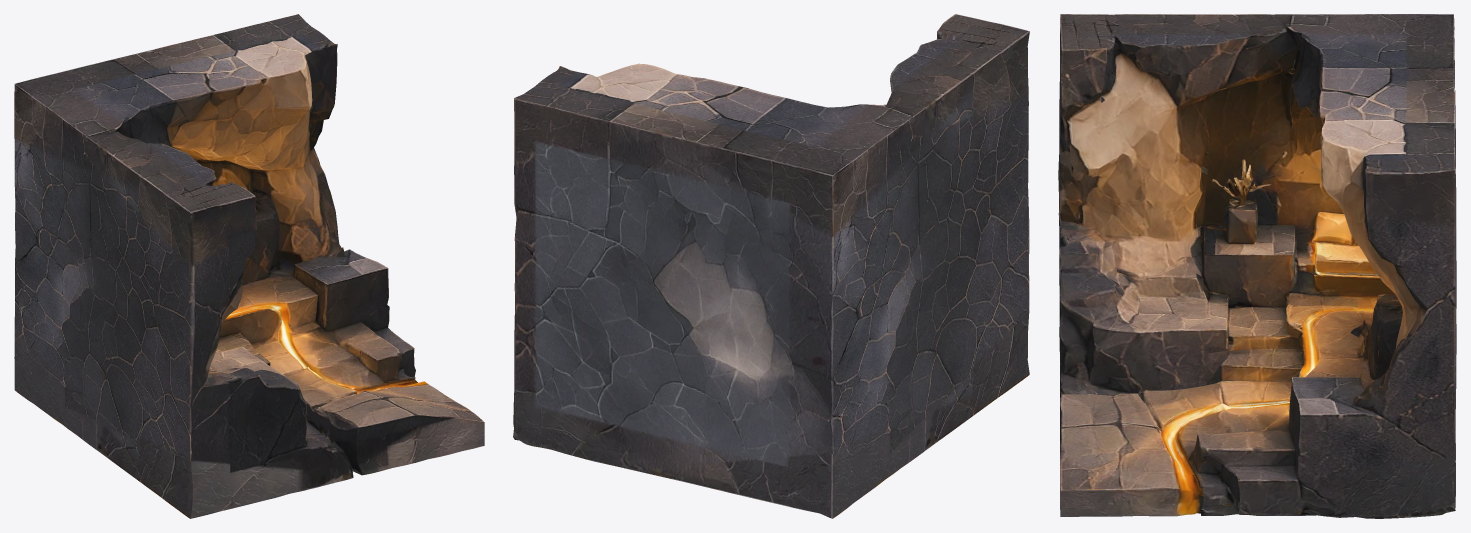
File: memento-noir-mobile.glb
3 views of the same model, side by side, from view 1: azimuth 30°, elevation 25°; view 2: azimuth 150°, elevation 25°; view 3: azimuth 270°, elevation 25° (orthographic). The views are drawn at different scales.
Parts seen in each view (by area): view 1: Mesh_0; view 2: Mesh_0; view 3: Mesh_0.
Part boxes in pixels (x1,y1,x2,y2): Mesh_0: [14, 14, 484, 518]; Mesh_0: [513, 14, 1029, 518]; Mesh_0: [1058, 14, 1456, 518].
Bounding box in the file's own units: 1.9 × 1.85 × 1.91.
Materials: 1 (1 with a texture image).
